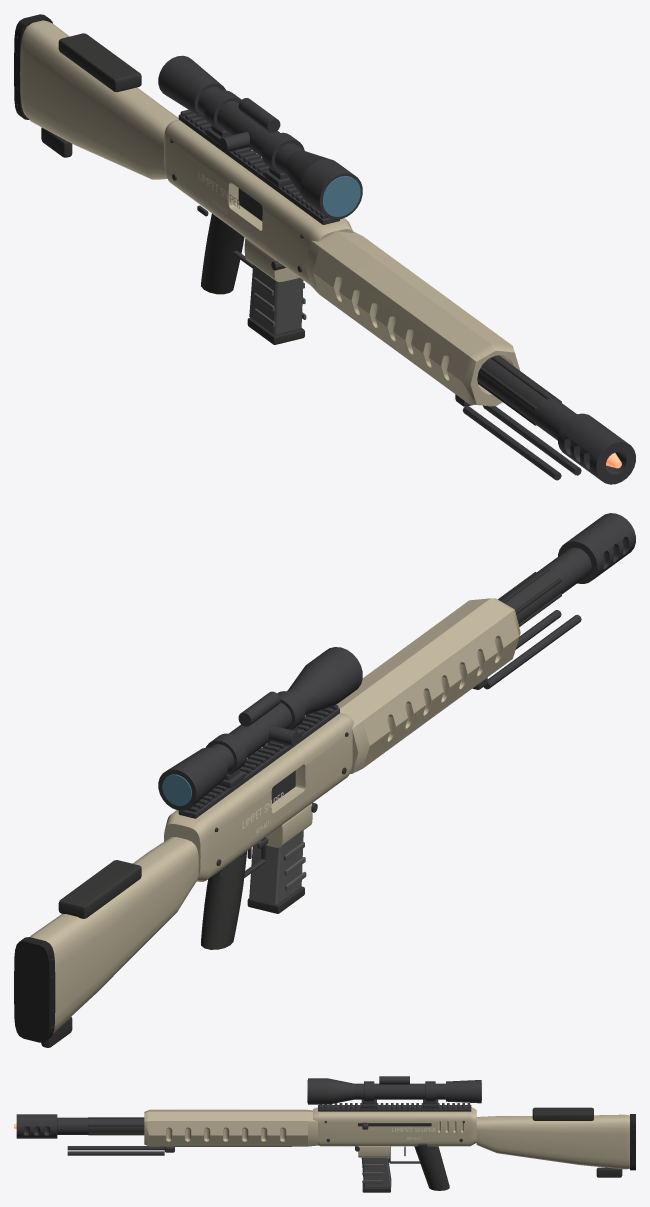
Rendered from limpetsniper.glb.
3 views of the same model, one above another, from view 1: azimuth 30°, elevation 25°; view 2: azimuth 150°, elevation 25°; view 3: azimuth 270°, elevation 25° (orthographic). The views are drawn at different scales.
Visible parts, largest first — view 1: Body; view 2: Body; view 3: Body.
Boxes of the visible parts, x1,y1,x2,y2 form: Body: [14, 14, 635, 484]; Body: [14, 513, 635, 1047]; Body: [14, 1076, 635, 1192].
Size of the model in its own units: 0.085 by 0.242 by 1.22.
